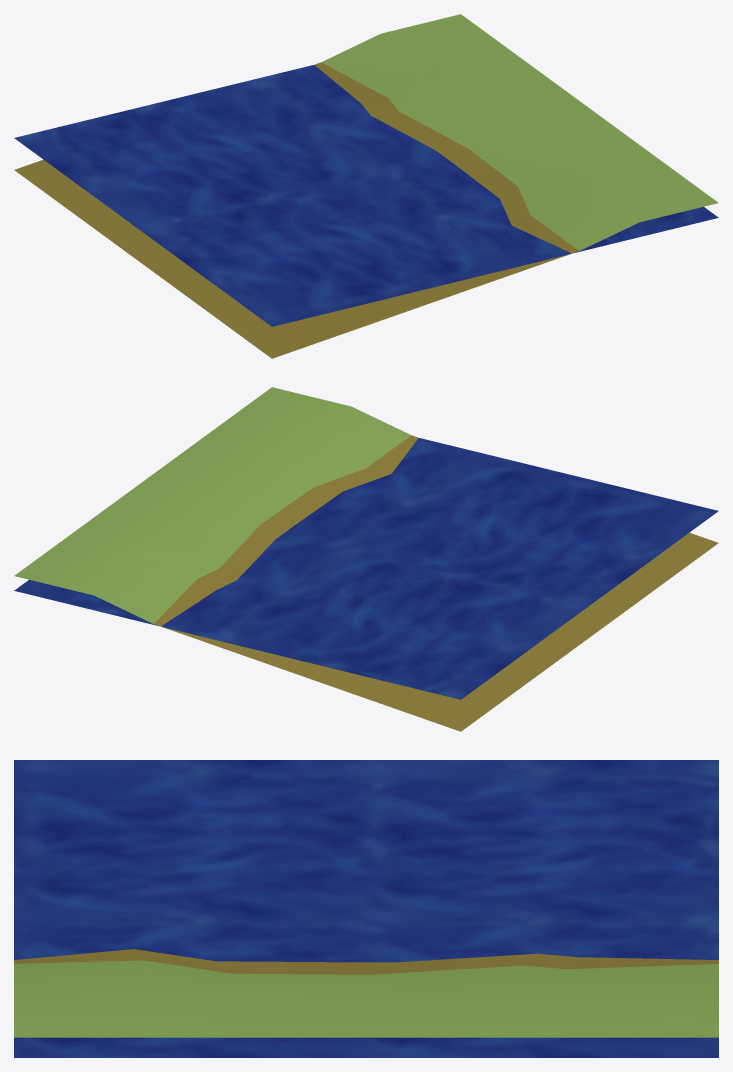
File: Water_Edge_East.glb
3 renders of one model, top to bottom at view 1: azimuth 30°, elevation 25°; view 2: azimuth 150°, elevation 25°; view 3: azimuth 270°, elevation 25°, orthographic. The views are drawn at different scales.
Visible parts, largest first — view 1: Water_Tile_Portion, Water Edge Ground-col; view 2: Water_Tile_Portion, Water Edge Ground-col; view 3: Water_Tile_Portion, Water Edge Ground-col.
Boxes of the visible parts, left/top/right/bottom form: Water_Tile_Portion: left=14, top=65, right=718, bottom=326; Water Edge Ground-col: left=14, top=14, right=718, bottom=358; Water_Tile_Portion: left=14, top=438, right=718, bottom=699; Water Edge Ground-col: left=14, top=387, right=718, bottom=731; Water_Tile_Portion: left=14, top=760, right=718, bottom=1057; Water Edge Ground-col: left=14, top=949, right=718, bottom=1037.
Bounding box in the file's own units: 1 × 0.1 × 1.
Materials: 3 (1 with a texture image).
